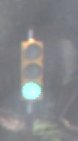Green: (18, 34, 46, 114)
